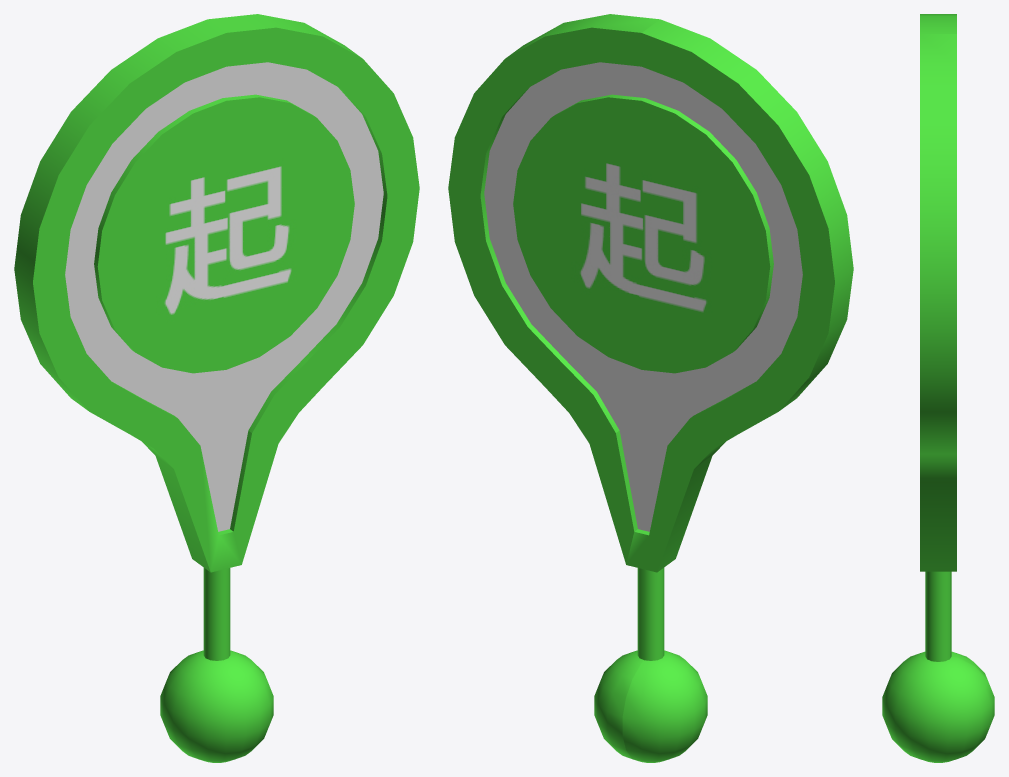
Rendered from start.fcd52ff.glb.
3 views of the same model, side by side, from view 1: azimuth 30°, elevation 25°; view 2: azimuth 150°, elevation 25°; view 3: azimuth 270°, elevation 25° (orthographic).
Visible parts, largest first — view 1: 起点; view 2: 起点; view 3: 起点.
Boxes of the visible parts, <box> form: 起点: <box>14,14,419,762</box>; 起点: <box>448,14,853,762</box>; 起点: <box>882,14,994,762</box>.
Size of the model in its own units: 1.2 by 2.17 by 0.3053.
3 materials, 3 textured.
